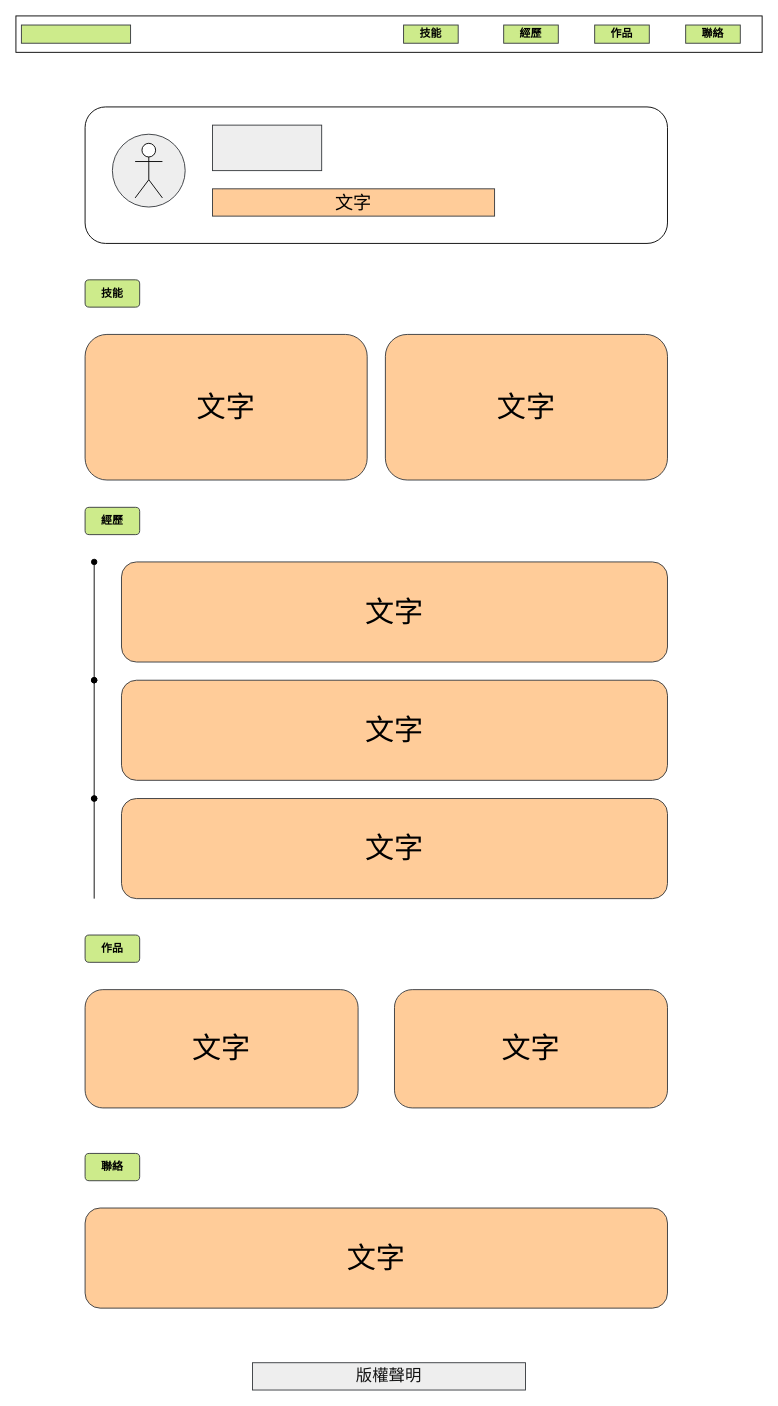
Image size: 778x1406. Some labels were removed from this diagram. The centre of each missing label's shape, as x and y in pixels:
TOP: point 75,33
姓名: point 267,147
